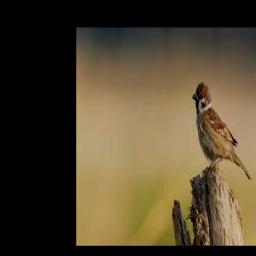Sparrow: (193, 82, 251, 181)
